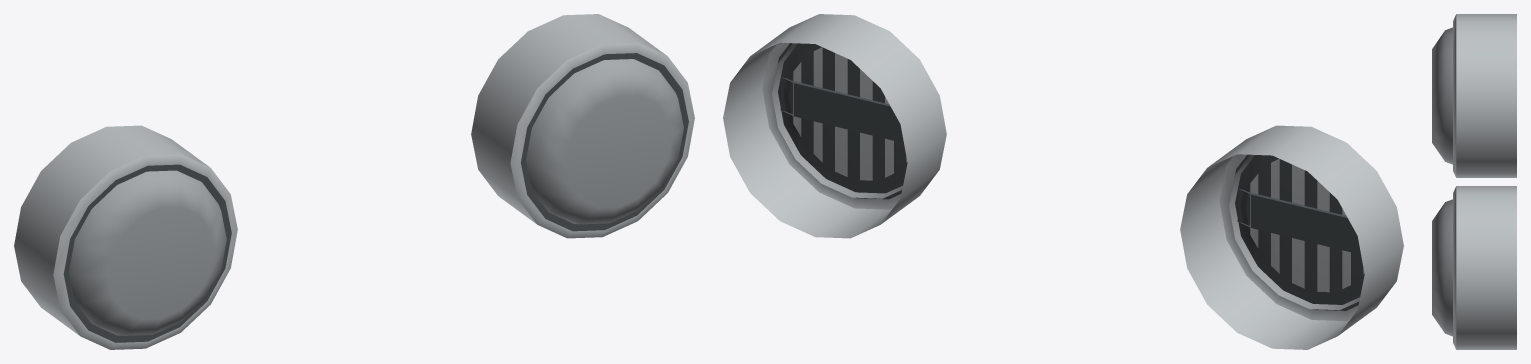
File: Car_12_Headlight_Cool.fbx
The picture shows the model from 3 angles, left to right: view 1: azimuth 30°, elevation 25°; view 2: azimuth 150°, elevation 25°; view 3: azimuth 270°, elevation 25°; orthographic projection. The views are drawn at different scales.
Visible parts, largest first — view 1: Car_12_Headlight_Cool; view 2: Car_12_Headlight_Cool; view 3: Car_12_Headlight_Cool.
Part boxes in pixels (box(x1,y1,x2,y2)): Car_12_Headlight_Cool: box(14, 14, 694, 349); Car_12_Headlight_Cool: box(723, 14, 1403, 349); Car_12_Headlight_Cool: box(1432, 14, 1516, 349).
Size of the model in its own units: 96.38 by 14.3 by 27.72.
